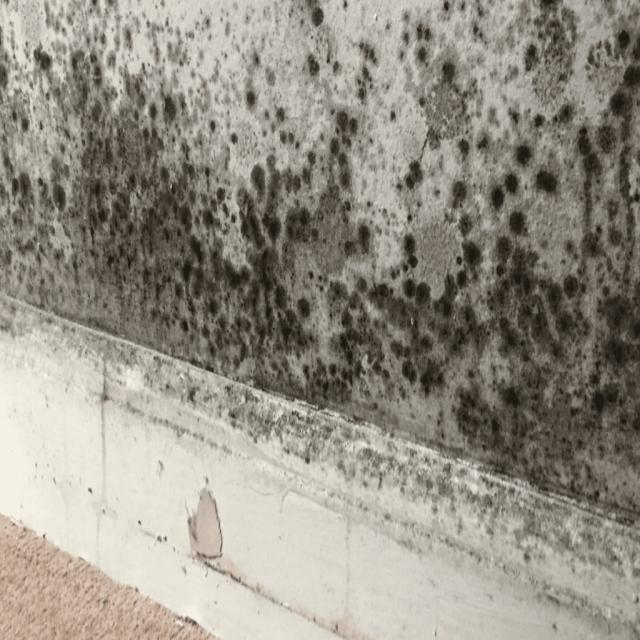stain_mould: (0, 0, 637, 606)
